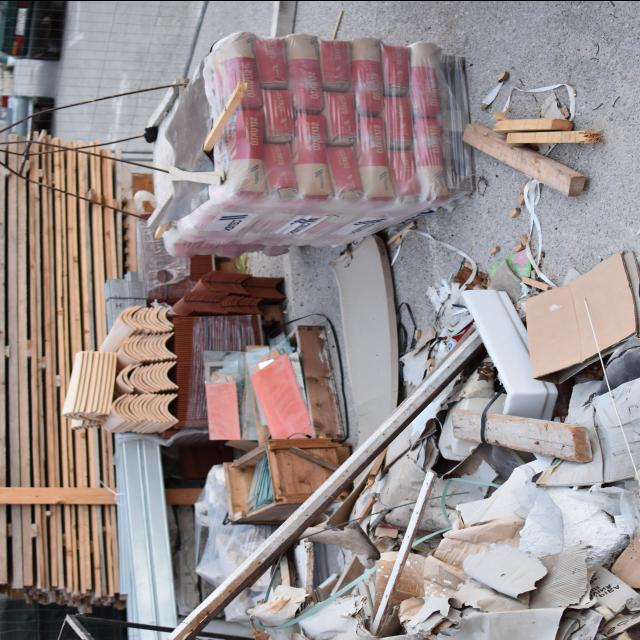entulho: (137, 26, 473, 270), (0, 130, 134, 570), (0, 126, 135, 354), (259, 429, 396, 569), (370, 317, 498, 466), (63, 288, 185, 442), (329, 225, 408, 443), (168, 524, 302, 640), (144, 55, 220, 232), (216, 436, 350, 524), (372, 467, 441, 625), (254, 322, 334, 444), (439, 412, 592, 456), (453, 468, 535, 530), (460, 541, 546, 597)
lixo domiciliar: (521, 245, 639, 385)
